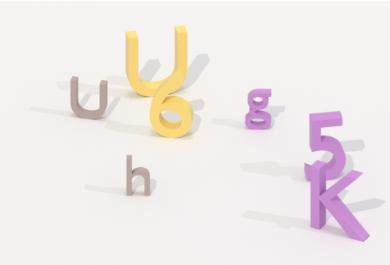5: (305, 109, 347, 183)
6: (146, 70, 198, 142)
K: (308, 159, 370, 242)
U: (120, 22, 193, 97), (67, 73, 112, 122)
g: (240, 84, 276, 133)
h: (123, 151, 154, 200)
